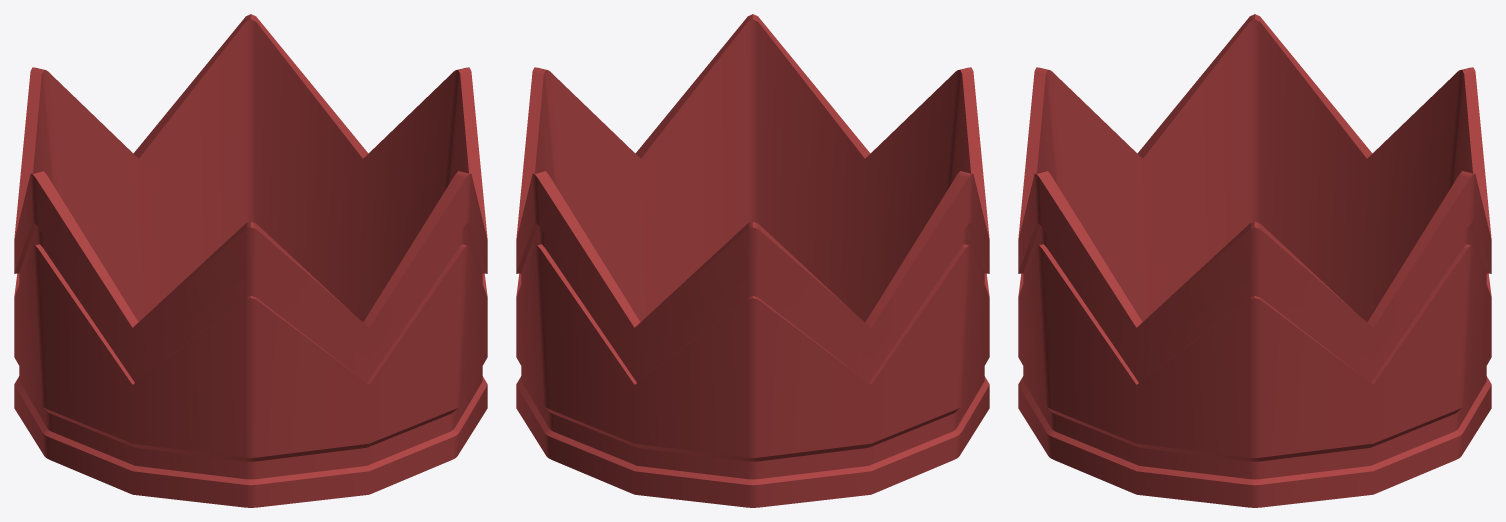
Rendered from Crown_01.fbx.
3 views of the same model, side by side, from view 1: azimuth 30°, elevation 25°; view 2: azimuth 150°, elevation 25°; view 3: azimuth 270°, elevation 25° (orthographic).
Visible parts, largest first — view 1: Crown_01; view 2: Crown_01; view 3: Crown_01.
Part boxes in pixels (bbox=[...]): Crown_01: bbox=[14, 14, 487, 507]; Crown_01: bbox=[516, 14, 989, 507]; Crown_01: bbox=[1018, 14, 1491, 507].
Size of the model in its own units: 69.83 by 43.89 by 65.52.
